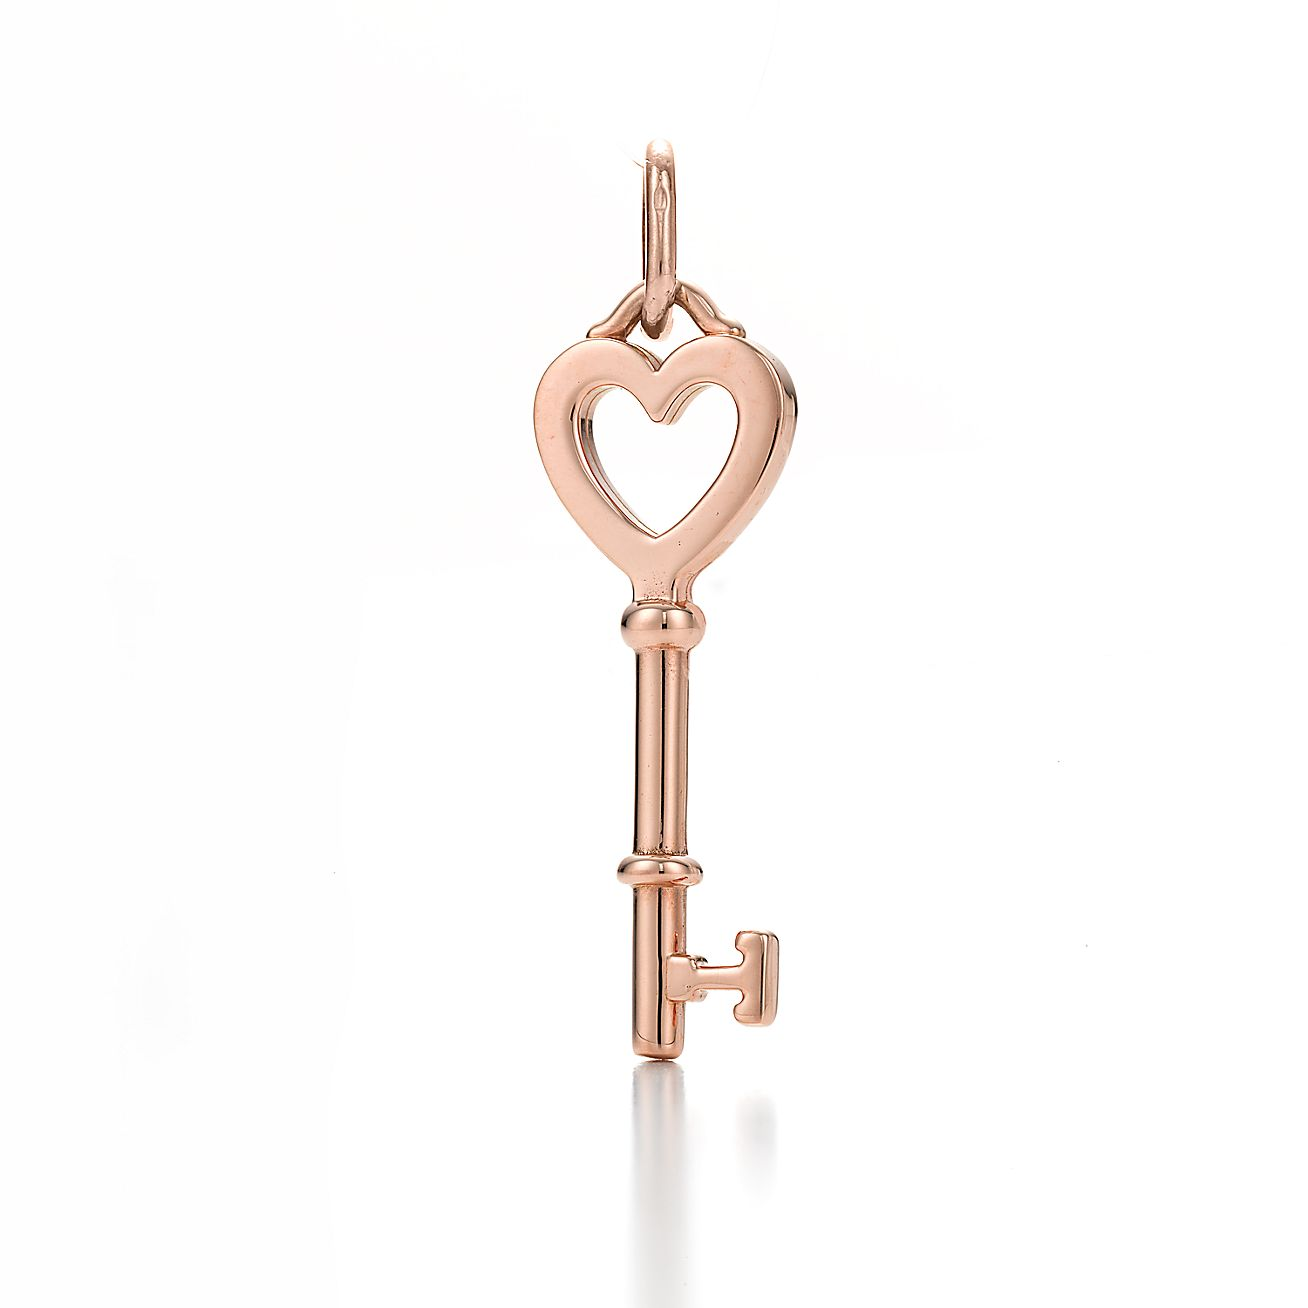key: (519, 250, 812, 1083)
